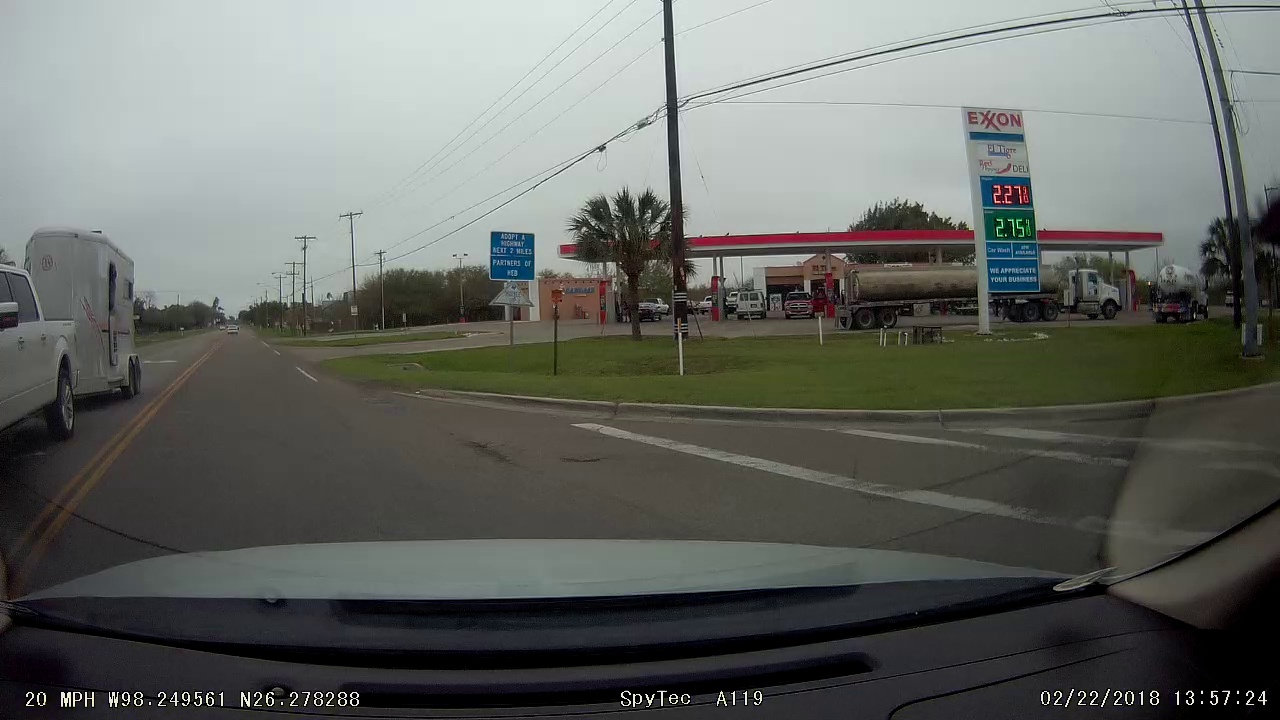pothole: (444, 432, 520, 473), (557, 444, 614, 474)
